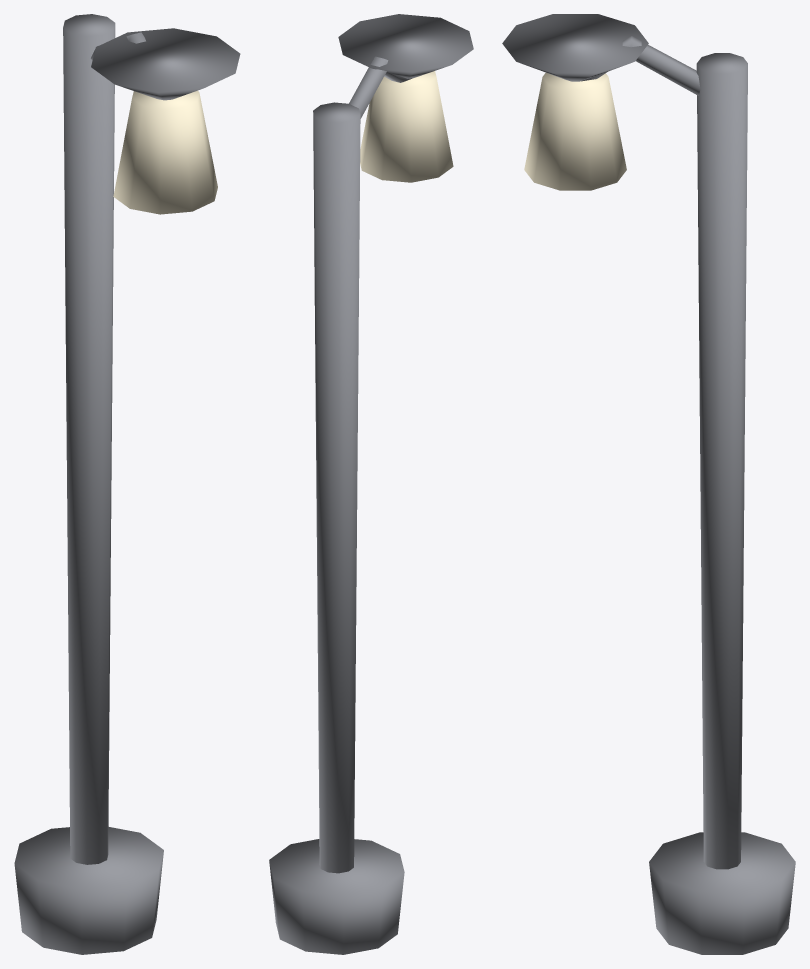
The model's file is lamp_post.glb.
The picture shows the model from 3 angles, left to right: view 1: azimuth 30°, elevation 25°; view 2: azimuth 150°, elevation 25°; view 3: azimuth 270°, elevation 25°; orthographic projection. The views are drawn at different scales.
Parts seen in each view (by area): view 1: lamp_post; view 2: lamp_post; view 3: lamp_post.
Part boxes in pixels (bbox=[...]): lamp_post: bbox=[14, 14, 240, 954]; lamp_post: bbox=[269, 14, 473, 954]; lamp_post: bbox=[502, 14, 795, 954].
Size of the model in its own units: 0.3804 by 2.68 by 0.8.
